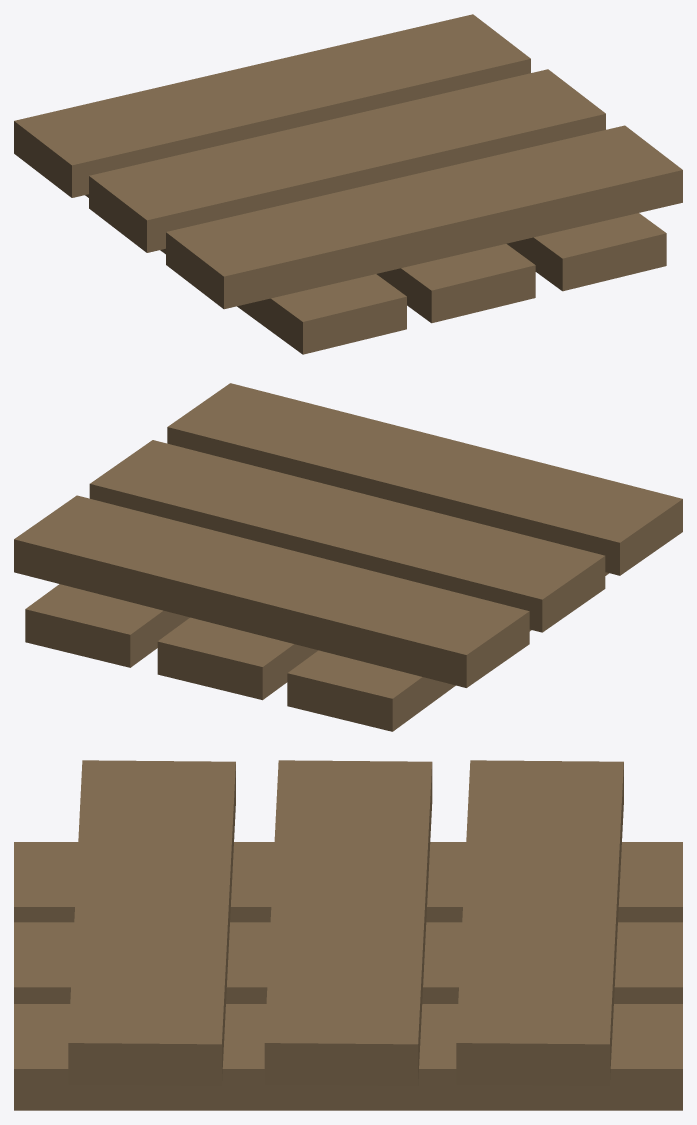
File: girth_plank.glb
3 renders of one model, top to bottom at view 1: azimuth 30°, elevation 25°; view 2: azimuth 150°, elevation 25°; view 3: azimuth 270°, elevation 25°, orthographic. The views are drawn at different scales.
Visible parts, largest first — view 1: Cube; view 2: Cube; view 3: Cube.
Part boxes in pixels (x1,y1,x2,y2): Cube: (14, 14, 682, 354); Cube: (14, 383, 682, 731); Cube: (14, 760, 682, 1110).
Size of the model in its own units: 2.01 by 0.3003 by 2.
